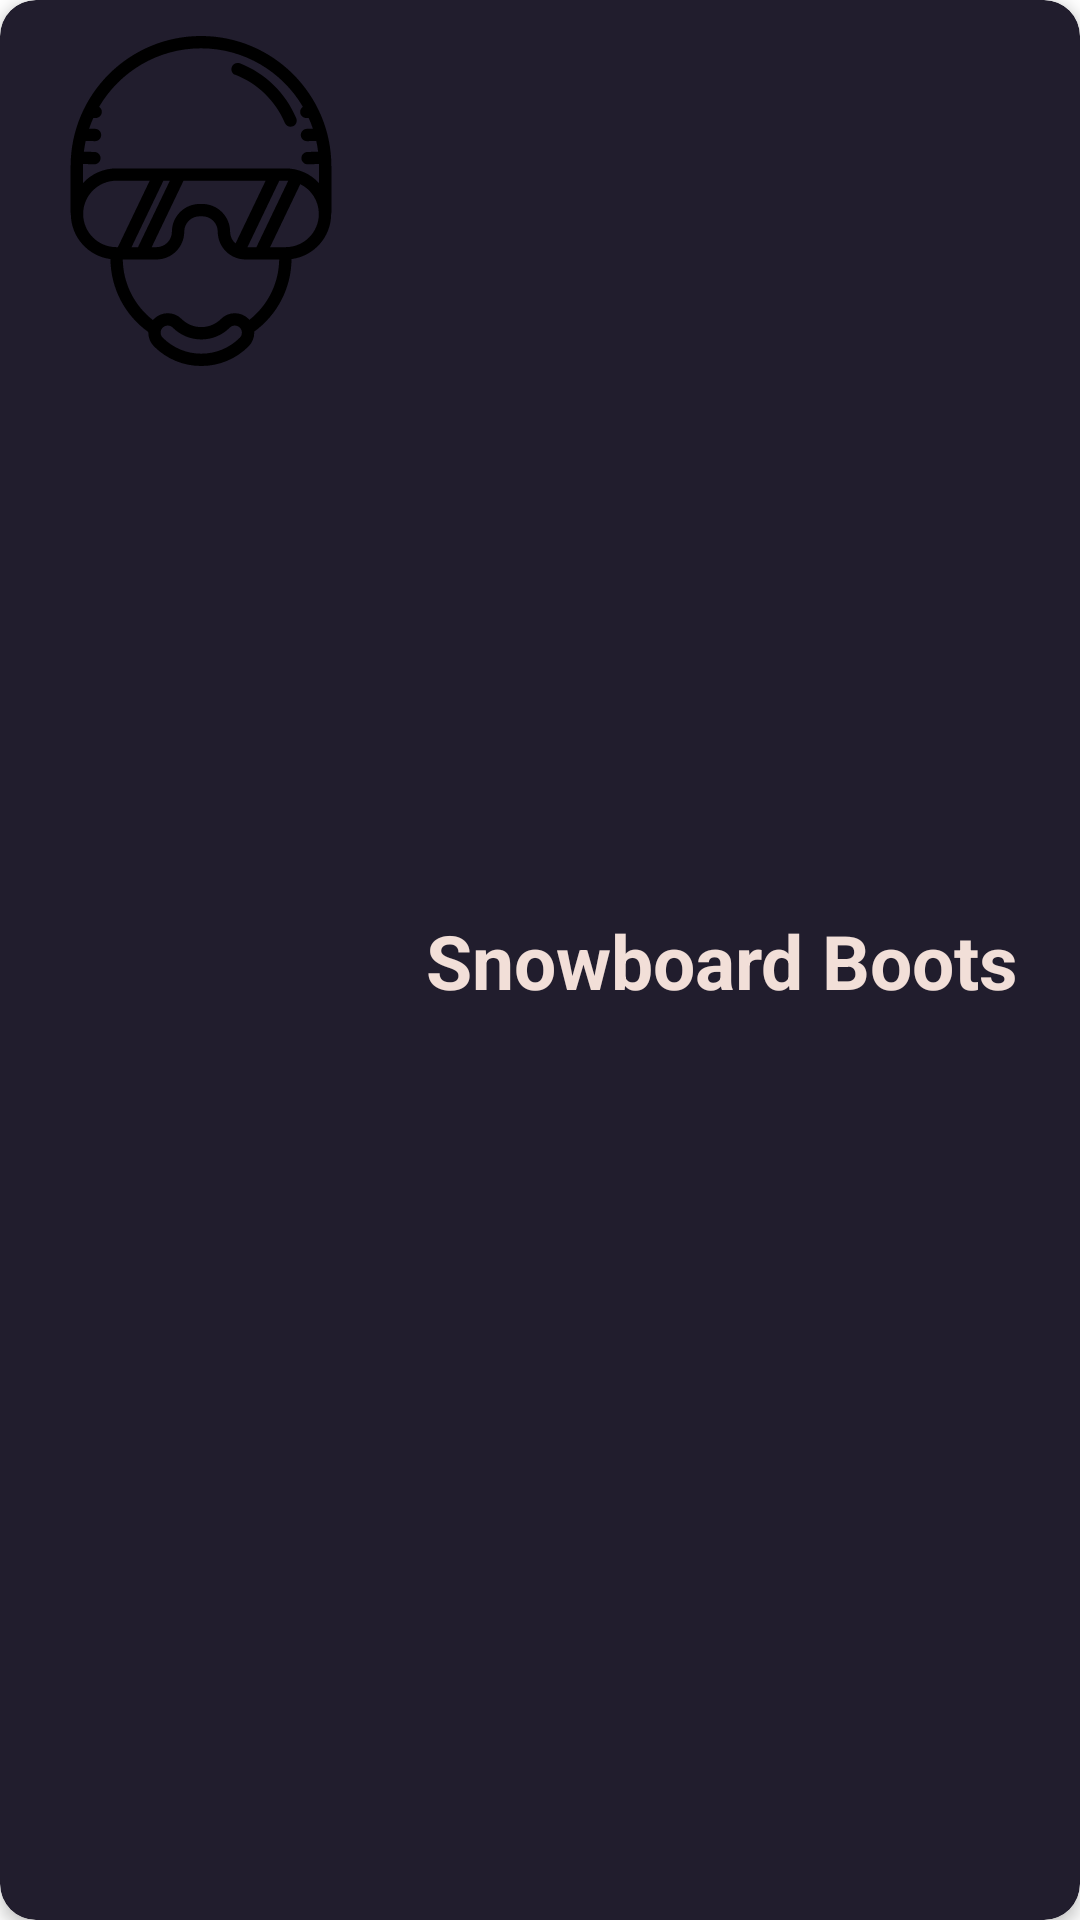

Icons on this 1080*1920 Android screen, each with the point to tap as (x,y):
equipment: (201,201)
